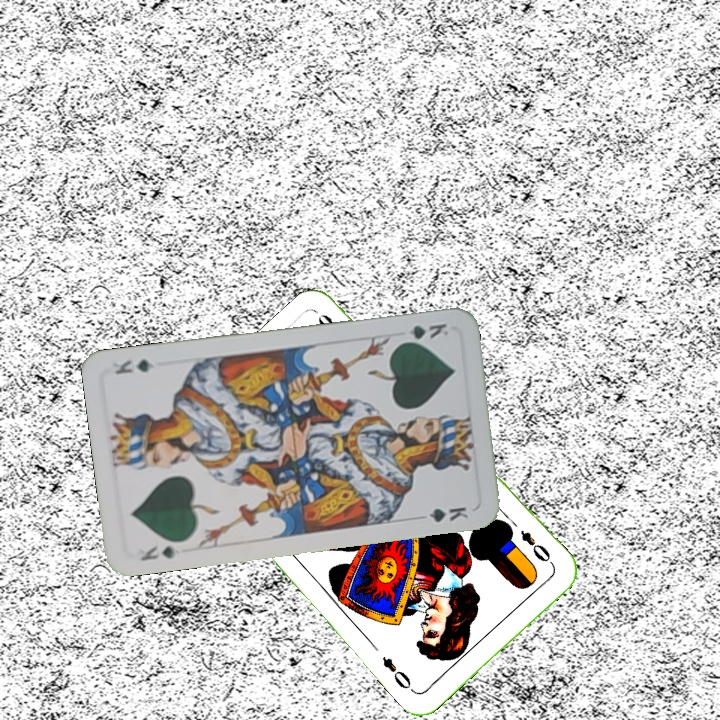EO: (516, 526, 557, 569)
GK: (395, 319, 451, 346), (136, 541, 178, 564)
